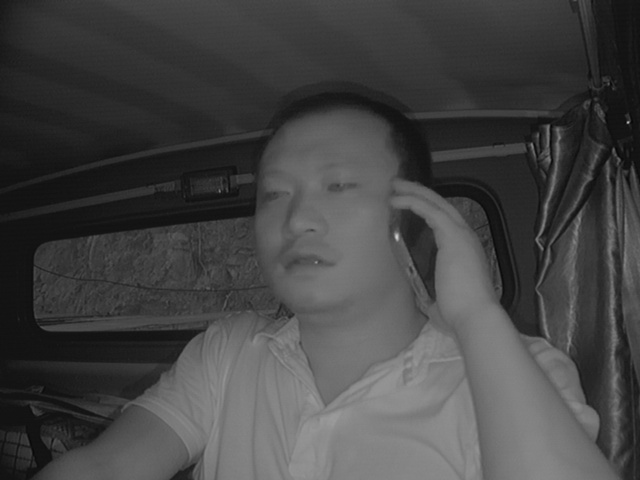hand: (382, 173, 485, 322)
